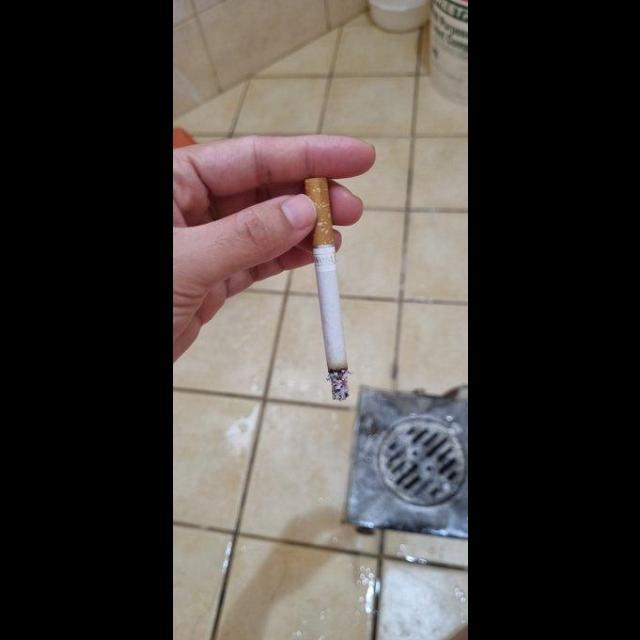rokok: (298, 172, 356, 406)
